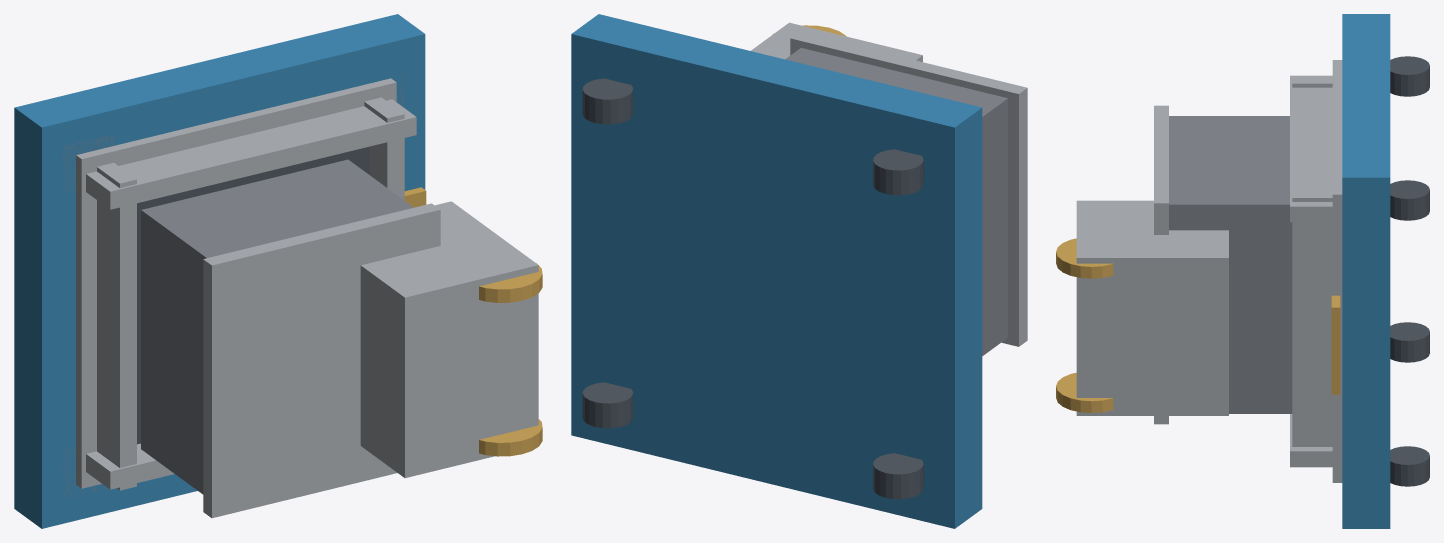
3 views of the same model, side by side, from view 1: azimuth 30°, elevation 25°; view 2: azimuth 150°, elevation 25°; view 3: azimuth 270°, elevation 25° (orthographic). The views are drawn at different scales.
Visible parts, largest first — view 1: bumper_outer, hopper_top, shooter_tower, hopper_body, bellypan, chassis_rail_1, chassis_crossbar, electronics, chassis_crossbar_1, chassis_rail, flywheel, flywheel_1; view 2: bumper_outer, hopper_body, hopper_top, swerve_tire_2, swerve_tire_1, swerve_tire, swerve_tire_3, shooter_tower; view 3: shooter_tower, hopper_body, bumper_outer, chassis_crossbar_1, chassis_rail_1, bellypan, hopper_top, swerve_tire, swerve_tire_1, swerve_tire_2, swerve_tire_3, flywheel_1 (+4 smaller).
Boxes of the visible parts, x1,y1,x2,y2 form: bumper_outer: (14, 14, 425, 528); hopper_top: (203, 203, 440, 518); shooter_tower: (360, 201, 538, 478); hopper_body: (141, 159, 413, 494); bellypan: (76, 78, 396, 488); chassis_rail_1: (86, 99, 416, 209); chassis_crossbar: (97, 162, 136, 490); electronics: (137, 146, 369, 444); chassis_crossbar_1: (364, 97, 404, 200); chassis_rail: (86, 443, 174, 489); flywheel: (479, 419, 542, 456); flywheel_1: (479, 263, 542, 302); bumper_outer: (571, 14, 982, 528); hopper_body: (785, 48, 1007, 355); hopper_top: (790, 32, 1027, 346); swerve_tire_2: (582, 382, 632, 428); swerve_tire_1: (873, 149, 923, 195); swerve_tire: (873, 453, 923, 499); swerve_tire_3: (582, 78, 632, 124); shooter_tower: (751, 22, 922, 61); shooter_tower: (1076, 200, 1228, 415); hopper_body: (1169, 116, 1292, 413); bumper_outer: (1342, 14, 1390, 528); chassis_crossbar_1: (1292, 190, 1332, 446); chassis_rail_1: (1290, 75, 1332, 222); bellypan: (1332, 60, 1342, 482); hopper_top: (1154, 105, 1168, 424); swerve_tire: (1390, 322, 1429, 362); swerve_tire_1: (1390, 56, 1429, 96); swerve_tire_2: (1390, 446, 1429, 486); swerve_tire_3: (1390, 180, 1429, 220); flywheel_1: (1056, 238, 1113, 278).
Size of the model in its own units: 0.889 by 0.889 by 0.8578.
